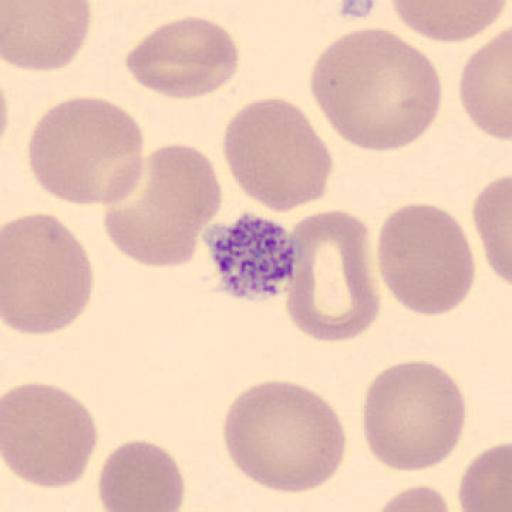Platelet: (204, 209, 299, 304)
RBC: (308, 25, 444, 154), (100, 142, 223, 270), (221, 379, 348, 495), (283, 205, 381, 345), (221, 95, 335, 214), (26, 94, 146, 206), (360, 358, 466, 472), (2, 212, 95, 338), (376, 202, 477, 317), (2, 381, 99, 489), (123, 15, 241, 102), (96, 438, 186, 512), (1, 0, 92, 73), (458, 26, 512, 143), (388, 0, 509, 44), (472, 173, 512, 287), (458, 440, 512, 512), (373, 482, 452, 512), (0, 74, 10, 154)
